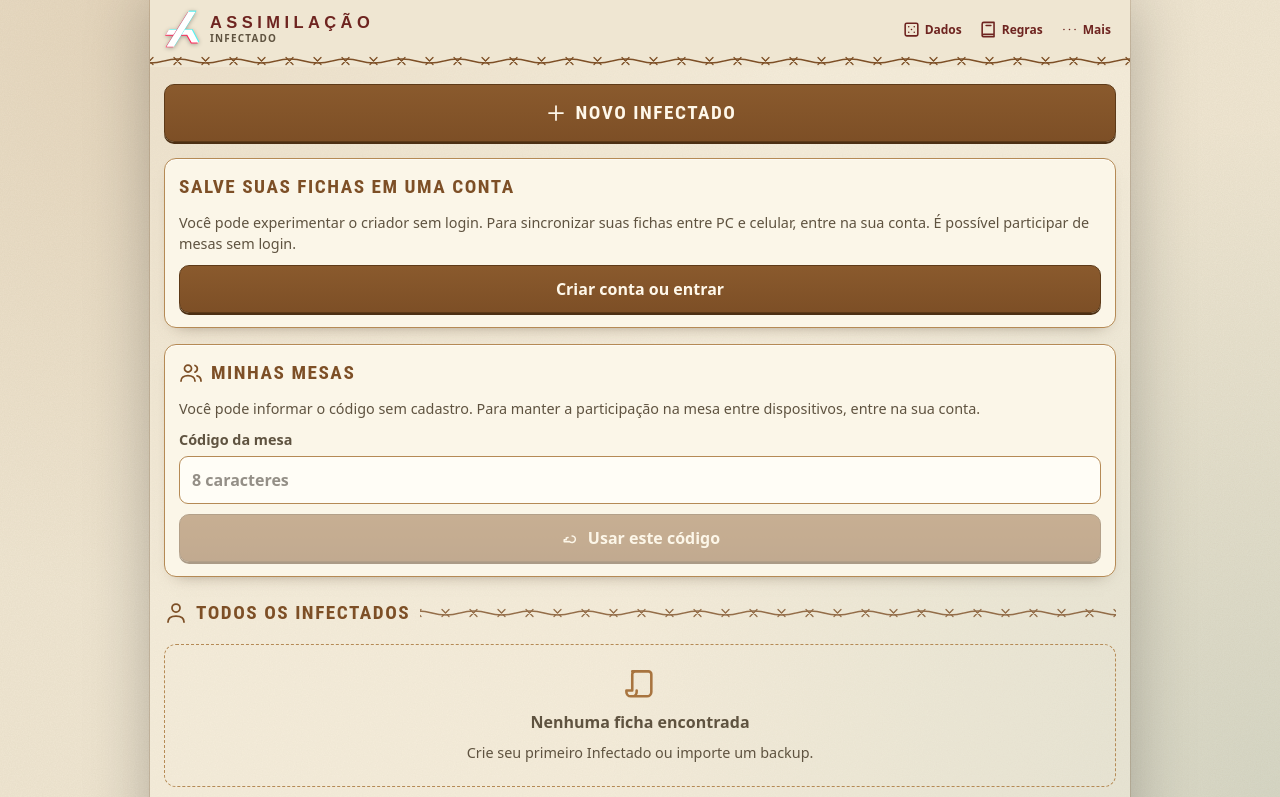
Test: Home: entrar na mesa antes de criar personagem › código inválido mostra o erro e não guarda nada; botão só habilita com 8 caracteres
Expected: the button "Usar este código" is disabled, [179,514,1101,562]
Step 1. Type "ZZZZZZZZ" into the field labelled "Código da mesa" → (640, 480), box [179,456,1101,504]
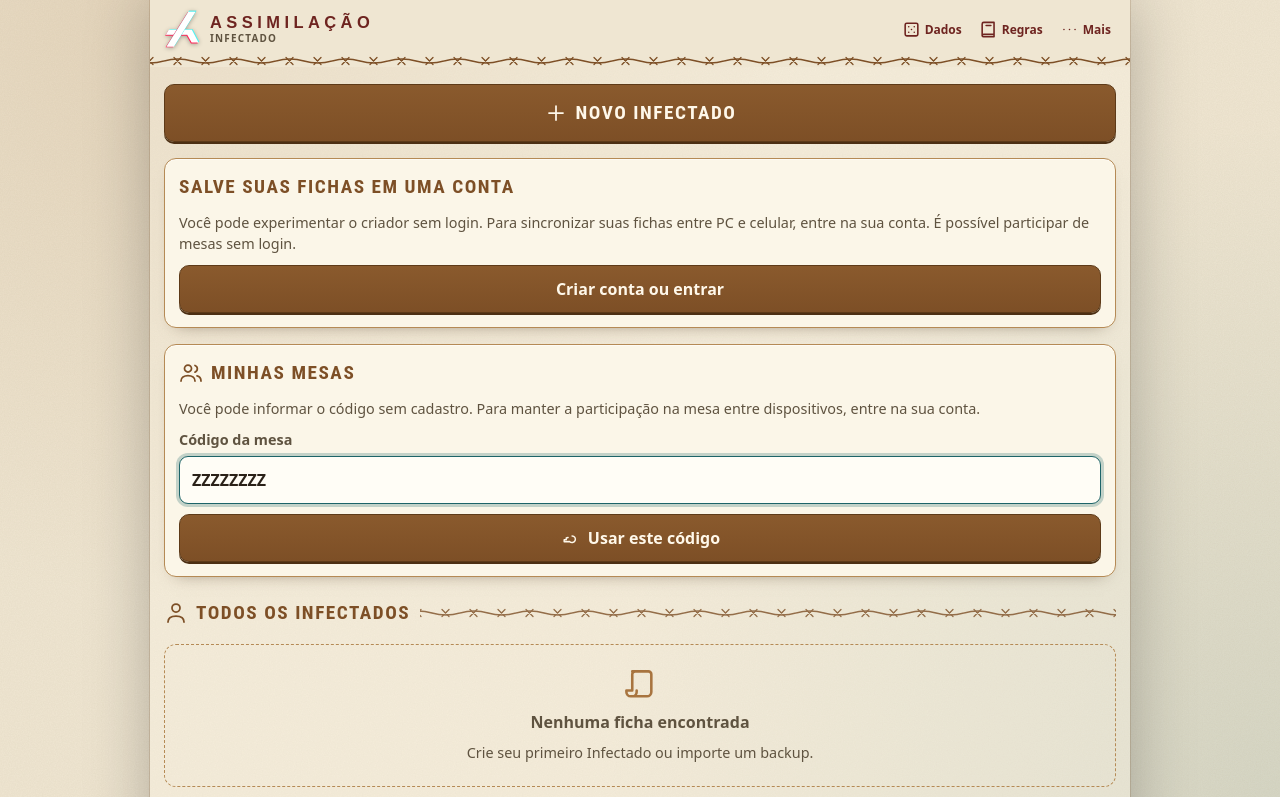
Expected: the button "Usar este código" is enabled
Step 2. Click the button "Usar este código" → (640, 538), box [179,514,1101,562]
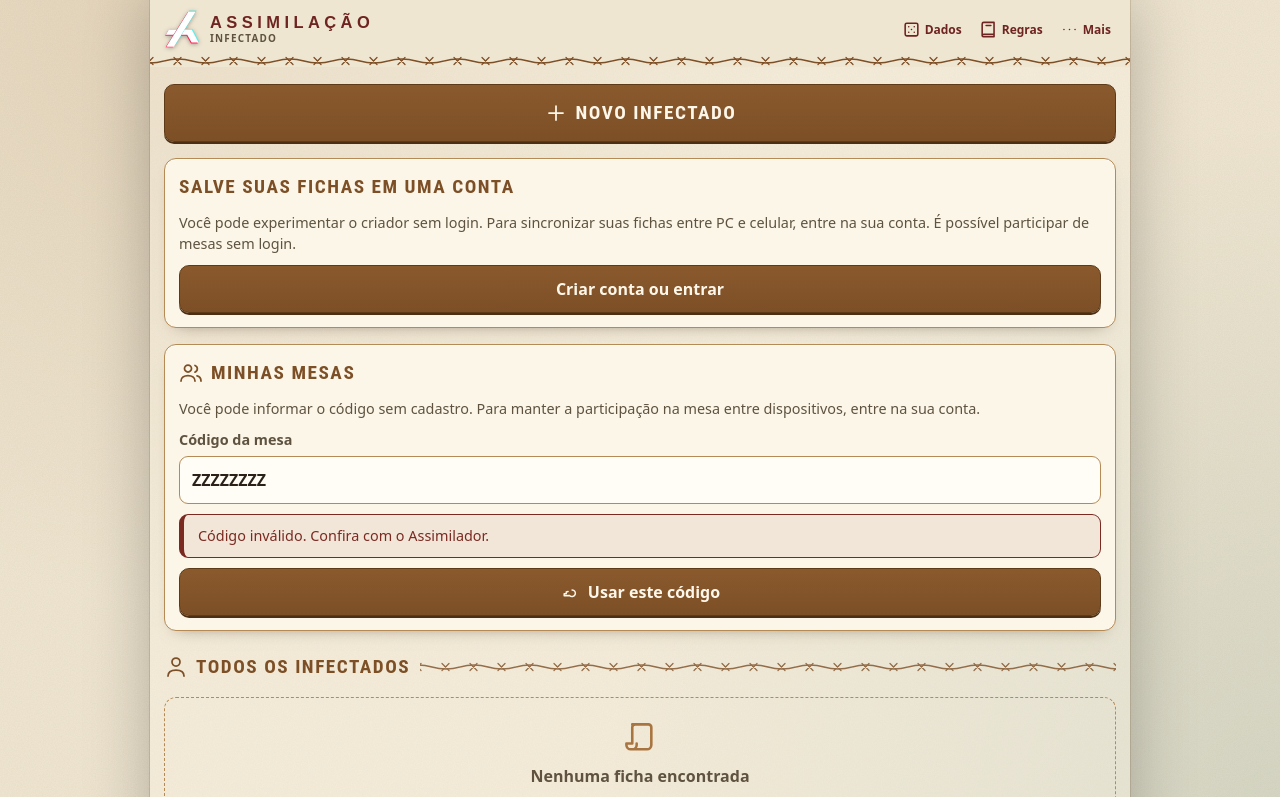
Expected: the message shows "Código inválido", [198,526,489,545]
